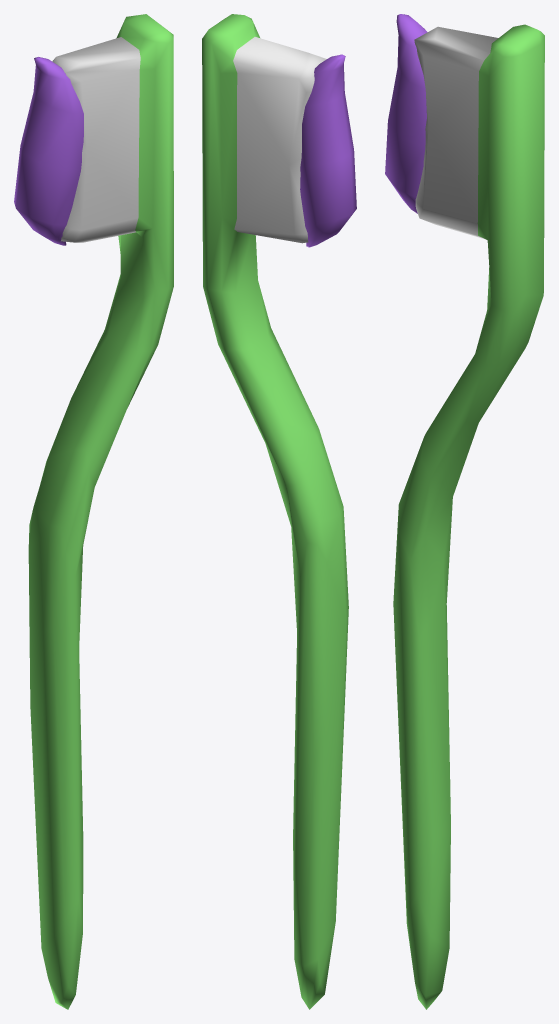
The model's file is ToothBrush.fbx.
3 renders of one model, left to right at view 1: azimuth 30°, elevation 25°; view 2: azimuth 150°, elevation 25°; view 3: azimuth 330°, elevation 25°, orthographic. The views are drawn at different scales.
Parts seen in each view (by area): view 1: Tooth Brush Body, Paste Gel; view 2: Tooth Brush Body, Paste Gel; view 3: Tooth Brush Body, Paste Gel.
Part boxes in pixels (x1,y1,x2,y2): Tooth Brush Body: [28, 14, 173, 1009]; Paste Gel: [14, 57, 83, 245]; Tooth Brush Body: [202, 14, 348, 1009]; Paste Gel: [300, 54, 356, 247]; Tooth Brush Body: [393, 24, 544, 1009]; Paste Gel: [385, 14, 427, 213].
Size of the model in its own units: 0.7176 by 4.57 by 0.3026.
